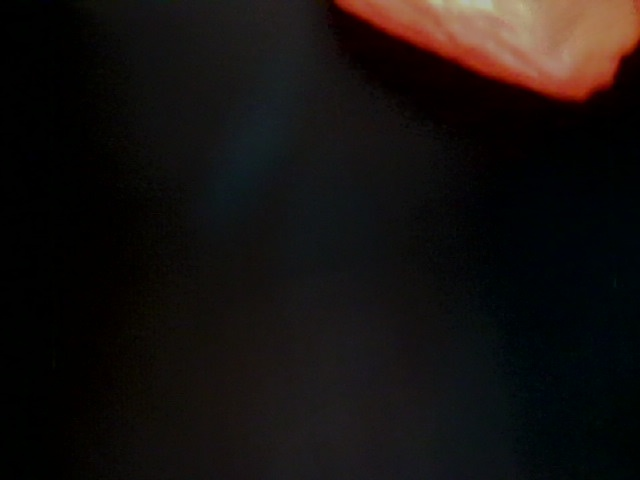YHLJ: (404, 419, 479, 480)
